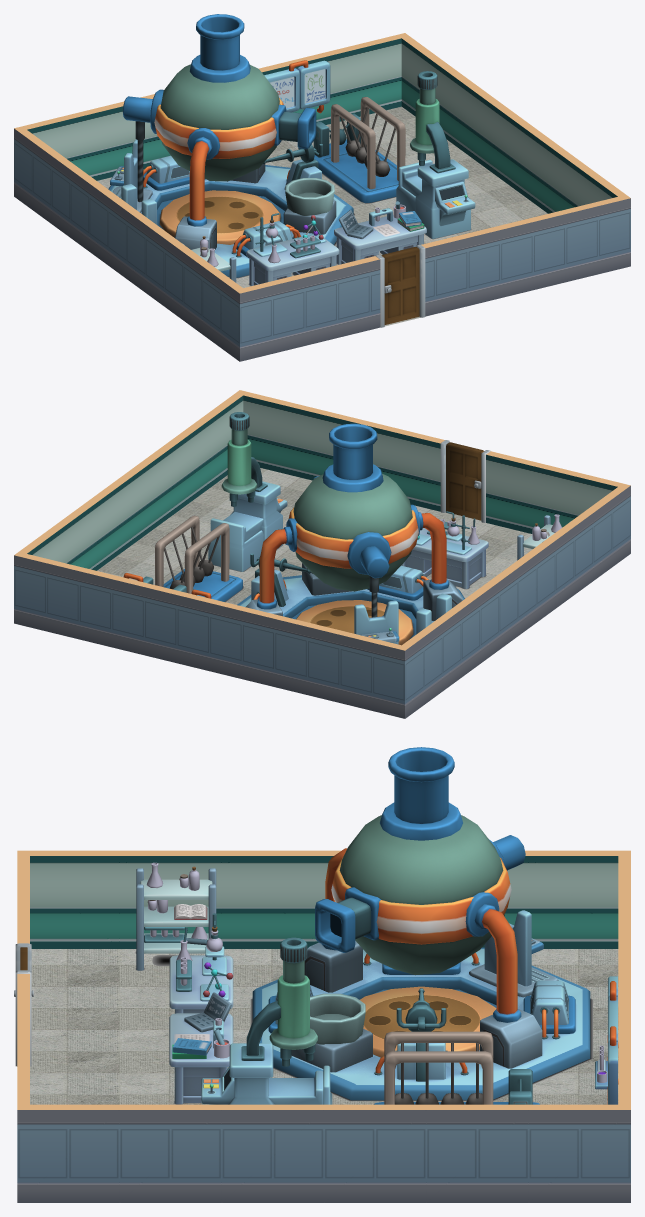
File: ScienceLab_Item.FBX
3 renders of one model, top to bottom at view 1: azimuth 30°, elevation 25°; view 2: azimuth 150°, elevation 25°; view 3: azimuth 270°, elevation 25°, orthographic. The views are drawn at different scales.
Parts seen in each view (by area): view 1: ScienceLab_Item_ScienceCenter, ScienceLab_Item_Microscope, ScienceLab_Item_Momentum, School_Well023, School_Well016, School_Well018, School_Well015, School_Well019, ScienceLab_Item_Lab, ScienceLab_Item_ScienceFacility, ScienceLab_Wall021, ScienceLab_Wall006 (+24 smaller); view 2: ScienceLab_Item_ScienceCenter, ScienceLab_Item_Microscope, School_Well008, School_Well009, School_Well006, School_Well007, School_Well021, School_Well005, ScienceLab_Item_Momentum, ScienceLab_Wall018, ScienceLab_Wall023, ScienceLab_Wall016 (+27 smaller); view 3: ScienceLab_Item_ScienceCenter, ScienceLab_Item_Microscope, School_Well010, School_Well011, School_Well012, School_Well013, School_Well014, School_Well022, ScienceLab_Wall001, ScienceLab_Wall020, ScienceLab_Wall004, ScienceLab_Item_Momentum (+21 smaller).
Boxes of the visible parts, left/top/right/bottom form: ScienceLab_Item_ScienceCenter: left=108, top=14, right=353, bottom=277; ScienceLab_Item_Microscope: left=396, top=71, right=475, bottom=238; ScienceLab_Item_Momentum: left=313, top=96, right=405, bottom=203; School_Well023: left=565, top=198, right=630, bottom=282; School_Well016: left=435, top=230, right=500, bottom=313; School_Well018: left=305, top=262, right=370, bottom=345; School_Well015: left=500, top=214, right=565, bottom=297; School_Well019: left=240, top=278, right=304, bottom=361; ScienceLab_Item_Lab: left=246, top=213, right=339, bottom=285; ScienceLab_Item_ScienceFacility: left=334, top=201, right=426, bottom=264; ScienceLab_Wall021: left=344, top=38, right=401, bottom=116; ScienceLab_Wall006: left=84, top=106, right=148, bottom=180; ScienceLab_Item_ScienceCenter: left=237, top=423, right=464, bottom=645; ScienceLab_Item_Microscope: left=208, top=412, right=287, bottom=571; School_Well008: left=144, top=587, right=209, bottom=671; School_Well009: left=79, top=571, right=144, bottom=654; School_Well006: left=274, top=619, right=339, bottom=702; School_Well007: left=209, top=603, right=274, bottom=686; School_Well021: left=14, top=555, right=79, bottom=639; School_Well005: left=340, top=635, right=404, bottom=718; ScienceLab_Item_Momentum: left=143, top=515, right=242, bottom=601; ScienceLab_Wall018: left=496, top=457, right=560, bottom=533; ScienceLab_Wall023: left=243, top=395, right=300, bottom=477; ScienceLab_Wall016: left=367, top=425, right=430, bottom=509; ScienceLab_Item_ScienceCenter: left=252, top=747, right=590, bottom=1100; ScienceLab_Item_Microscope: left=201, top=937, right=332, bottom=1104; School_Well010: left=528, top=1110, right=630, bottom=1202; School_Well011: left=426, top=1110, right=528, bottom=1202; School_Well012: left=324, top=1110, right=426, bottom=1202; School_Well013: left=221, top=1110, right=323, bottom=1202; School_Well014: left=119, top=1110, right=221, bottom=1202; School_Well022: left=17, top=1110, right=119, bottom=1202; ScienceLab_Wall001: left=221, top=856, right=323, bottom=948; ScienceLab_Wall020: left=30, top=856, right=119, bottom=948; ScienceLab_Wall004: left=528, top=856, right=618, bottom=948; ScienceLab_Item_Momentum: left=374, top=1031, right=539, bottom=1104.
Size of the model in its own units: 12 by 5.8 by 12.06.
